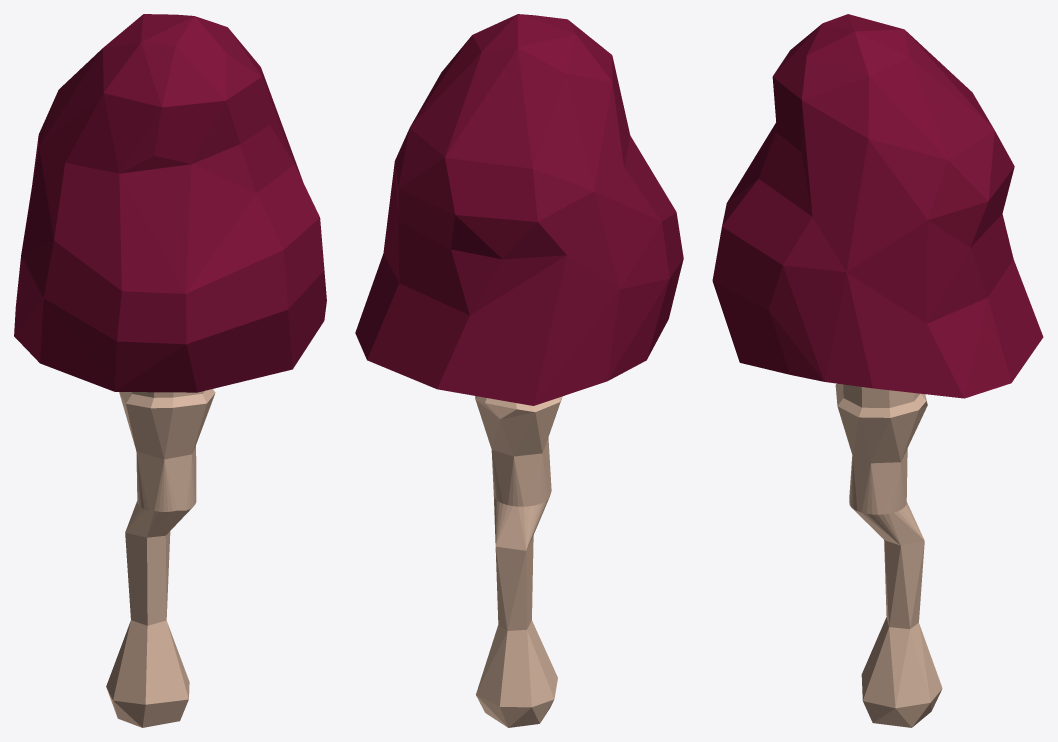
The model's file is mushroom3.fbx.
3 views of the same model, side by side, from view 1: azimuth 30°, elevation 25°; view 2: azimuth 150°, elevation 25°; view 3: azimuth 270°, elevation 25° (orthographic). The views are drawn at different scales.
Parts seen in each view (by area): view 1: mushroom3; view 2: mushroom3; view 3: mushroom3.
Part boxes in pixels (x1,y1,x2,y2): mushroom3: (14,14,326,727); mushroom3: (355,14,683,727); mushroom3: (712,14,1043,727).
Size of the model in its own units: 113 by 274 by 118.
